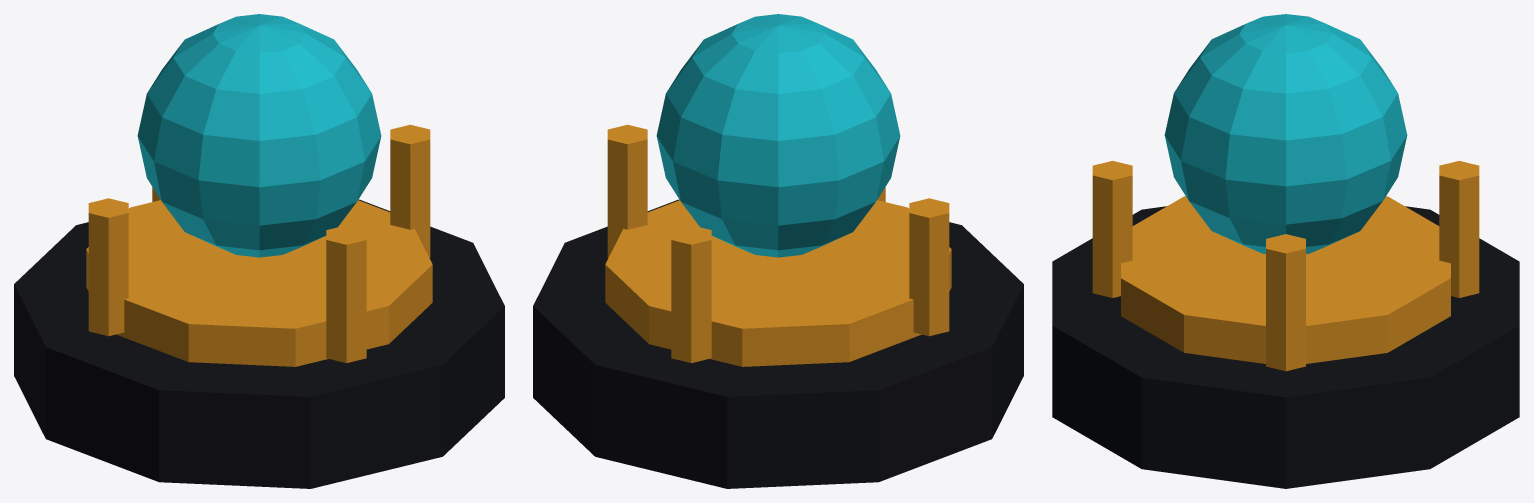
Rendered from world_core_v1.obj.
3 renders of one model, left to right at view 1: azimuth 30°, elevation 25°; view 2: azimuth 150°, elevation 25°; view 3: azimuth 270°, elevation 25°, orthographic.
Parts seen in each view (by area): view 1: world_core_v1; view 2: world_core_v1; view 3: world_core_v1.
Part boxes in pixels (left/top/right/bottom): world_core_v1: left=14, top=14, right=504, bottom=488; world_core_v1: left=533, top=14, right=1023, bottom=488; world_core_v1: left=1052, top=14, right=1519, bottom=488.
Size of the model in its own units: 1.7 by 1.38 by 1.62.
